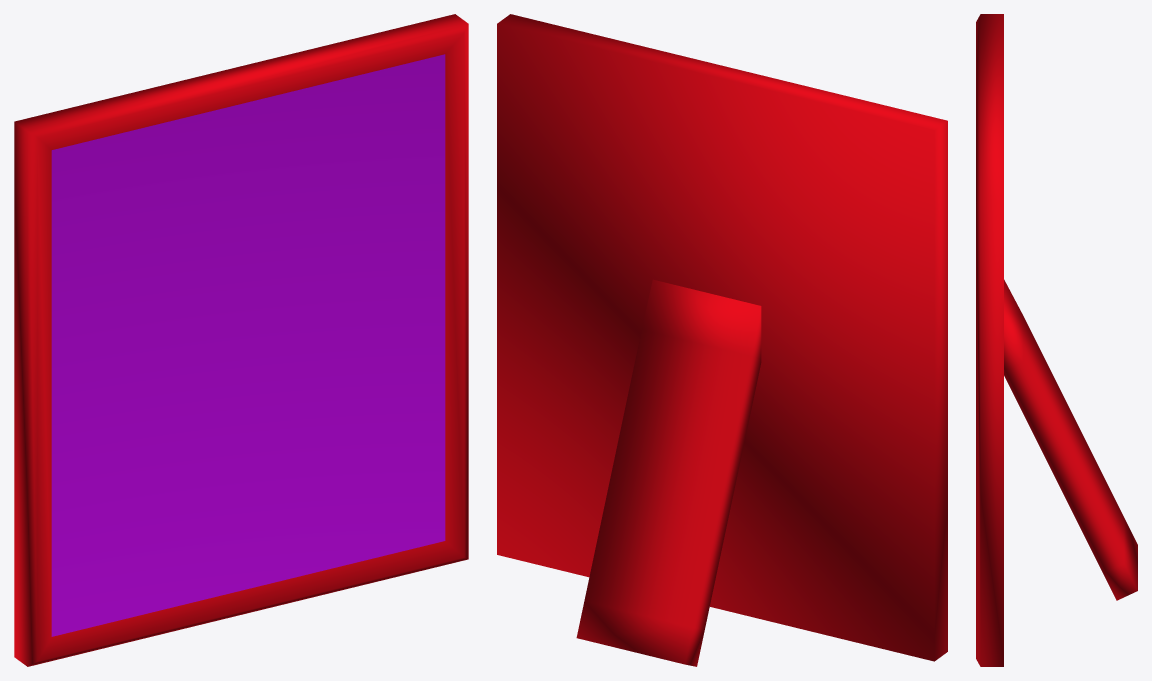
The model's file is PictureStanding1.fbx.
The picture shows the model from 3 angles, left to right: view 1: azimuth 30°, elevation 25°; view 2: azimuth 150°, elevation 25°; view 3: azimuth 270°, elevation 25°; orthographic projection. The views are drawn at different scales.
Parts seen in each view (by area): view 1: PaintingNewUV1.001; view 2: PaintingNewUV1.001; view 3: PaintingNewUV1.001.
Part boxes in pixels (box(x1,y1,x2,y2)): PaintingNewUV1.001: box(14, 14, 468, 666); PaintingNewUV1.001: box(497, 14, 947, 666); PaintingNewUV1.001: box(976, 14, 1137, 666).
Size of the model in its own units: 203 by 236 by 74.02.
